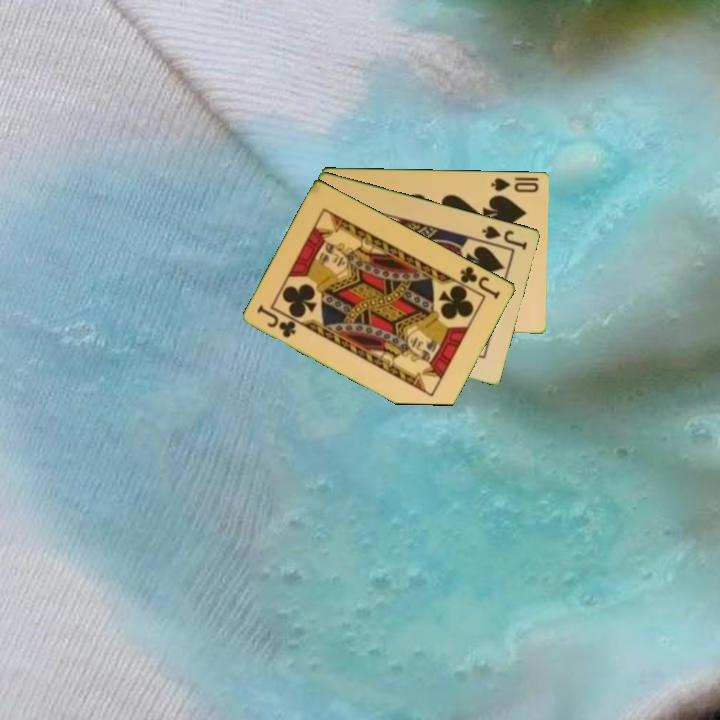10s: (488, 174, 541, 195)
Jc: (457, 262, 503, 302), (254, 302, 299, 341)
Js: (479, 222, 530, 253)
